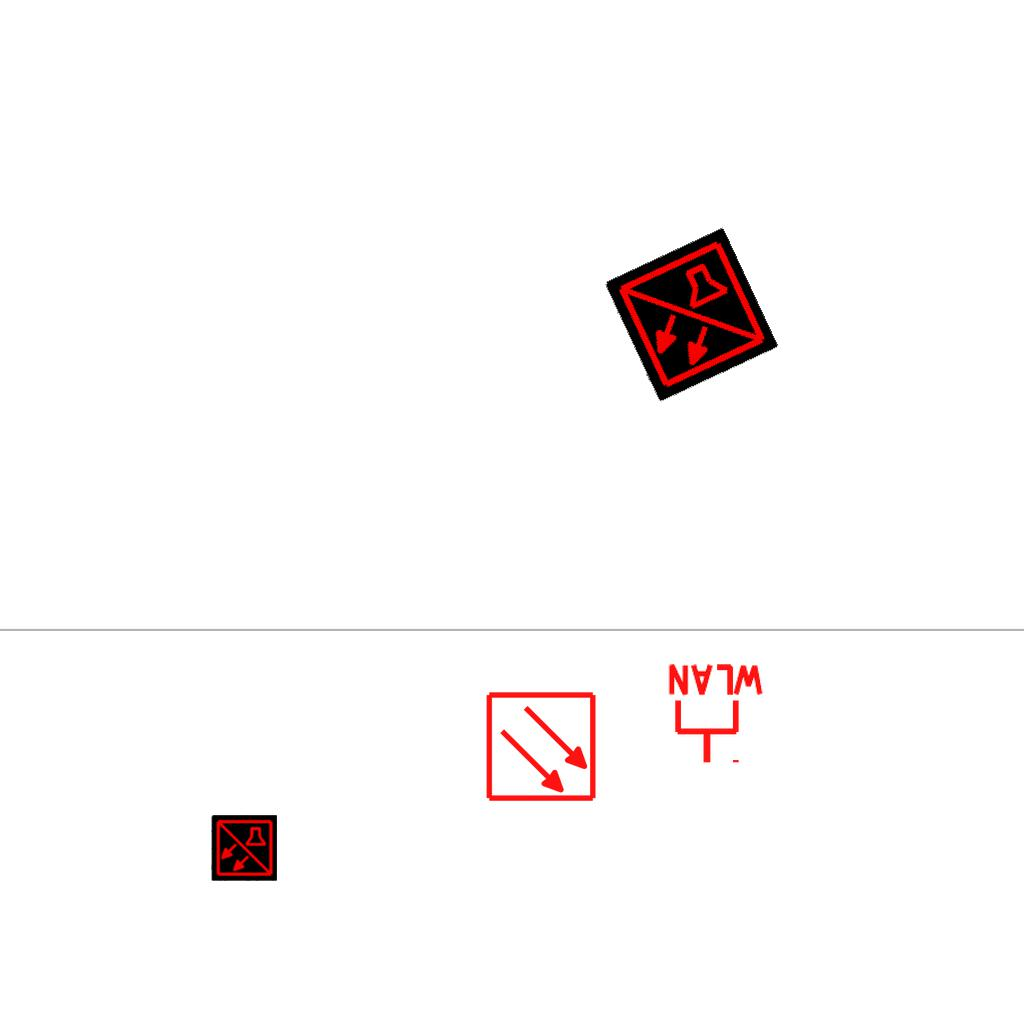OKW_Multisensormelder_(Kombination_optischer_Rauch-Kahlenmonoxid_Waerme-Melder): (603, 227, 779, 403), (211, 815, 277, 881)
RMO_Rauchmelder_optischer: (485, 690, 598, 803)
WLAN: (664, 662, 768, 767)
